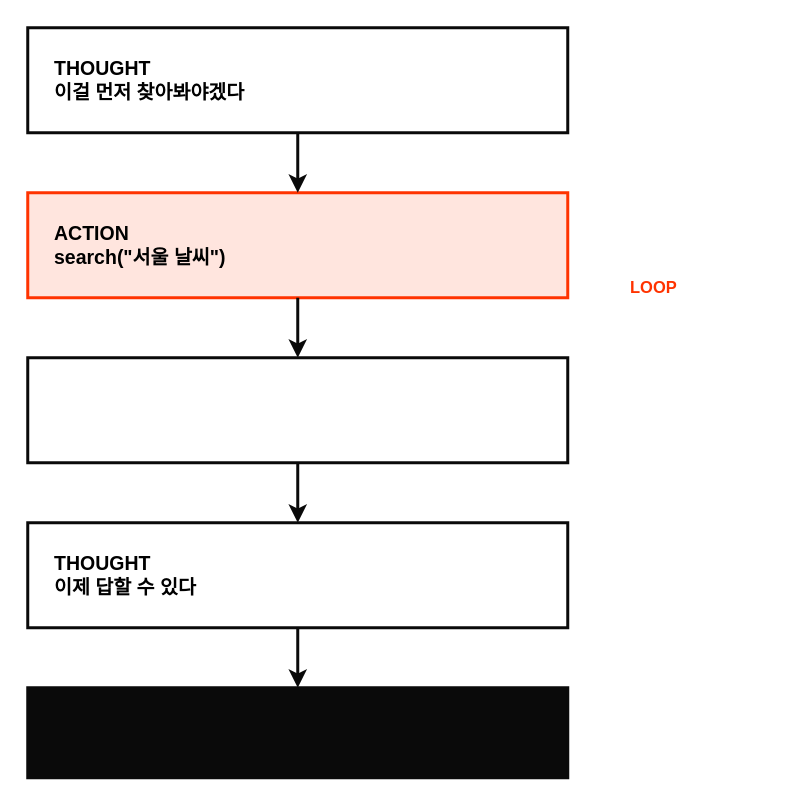
This 803x804 diagram has some shape labels left out. The centre of each missing label's shape, as x and y in pixels:
"FINAL ANSWER" belongs at (297,732).
"OBSERVATION 맑음, 18도" belongs at (297,410).
